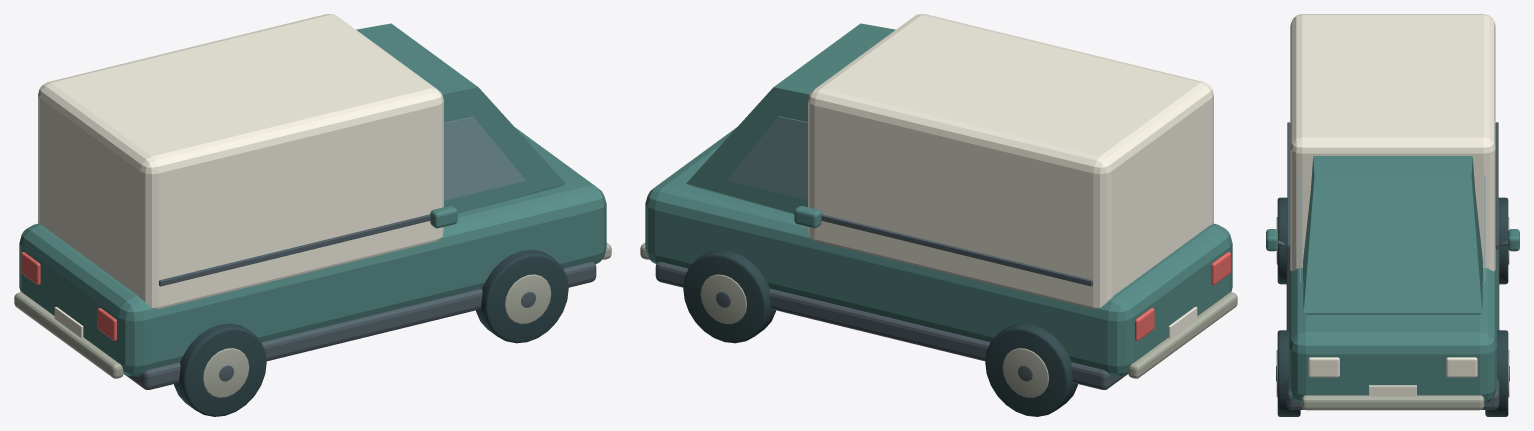
Rendered from delivery_van.glb.
The picture shows the model from 3 angles, left to right: view 1: azimuth 30°, elevation 25°; view 2: azimuth 150°, elevation 25°; view 3: azimuth 270°, elevation 25°; orthographic projection. The views are drawn at different scales.
Visible parts, largest first — view 1: Cargo_box, Rounded_body, Cab_roof, Sill, Tire.003, Tire.001, Driver_window.001, Bumper, Cargo_lower_rail.001, Hubcap.001, Hubcap.003; view 2: Cargo_box, Rounded_body, Cab_roof, Sill, Tire.002, Tire, Driver_window, Bumper, Cargo_lower_rail, Hubcap, Hubcap.002; view 3: Cargo_box, Cab_roof, Rounded_body, Bumper.001, Tire.002, Tire.003, Sill, Tire, Tire.001, Headlight.002, Headlight.003, License_plate.001 (+4 smaller).
Part boxes in pixels (x1,y1,x2,y2): Cargo_box: [38, 14, 443, 309]; Rounded_body: [19, 127, 606, 376]; Cab_roof: [356, 23, 565, 213]; Sill: [123, 262, 596, 389]; Tire.003: [476, 249, 568, 343]; Tire.001: [174, 323, 266, 416]; Driver_window.001: [444, 116, 525, 200]; Bumper: [14, 292, 123, 378]; Cargo_lower_rail.001: [159, 214, 430, 286]; Hubcap.001: [203, 348, 249, 397]; Hubcap.003: [505, 274, 551, 324]; Cargo_box: [808, 14, 1213, 309]; Rounded_body: [645, 127, 1232, 376]; Cab_roof: [686, 23, 895, 214]; Sill: [655, 262, 1128, 389]; Tire.002: [683, 249, 775, 343]; Tire: [985, 323, 1077, 416]; Driver_window: [726, 116, 807, 200]; Bumper: [1128, 292, 1237, 378]; Cargo_lower_rail: [821, 214, 1092, 286]; Hubcap: [1002, 348, 1048, 397]; Hubcap.002: [700, 274, 746, 324]; Cargo_box: [1290, 14, 1495, 271]; Cab_roof: [1303, 156, 1482, 314]; Rounded_body: [1289, 249, 1496, 403]; Bumper.001: [1301, 395, 1484, 410]; Tire.002: [1485, 330, 1508, 416]; Tire.003: [1277, 330, 1300, 416]; Sill: [1286, 248, 1499, 409]; Tire: [1498, 197, 1508, 284]; Tire.001: [1277, 197, 1287, 284]; Headlight.002: [1446, 357, 1477, 377]; Headlight.003: [1308, 357, 1339, 377]; License_plate.001: [1369, 385, 1416, 396].
Bounding box in the file's own units: 4.3 × 2.18 × 2.1.
